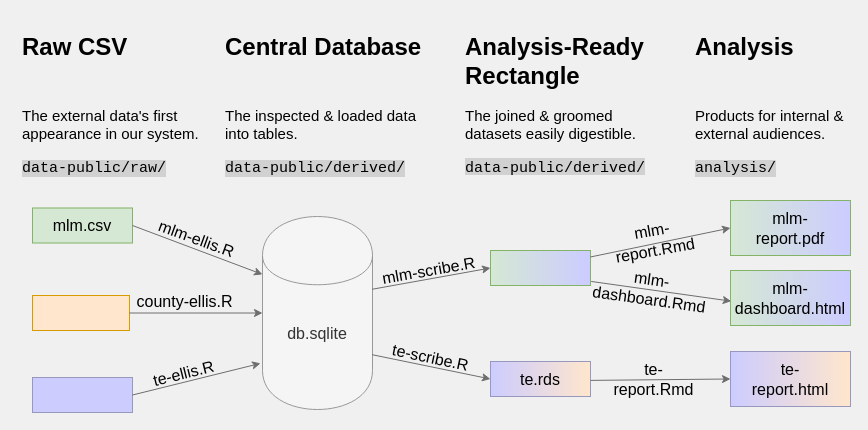
Some shapes in this 868 by 430 pixel diagram are drawn without their labels. Each missing label, with the box of its shape:
county.csv: (32, 294, 130, 330)
mlm.rds: (490, 250, 590, 286)
te.csv: (32, 376, 132, 412)
